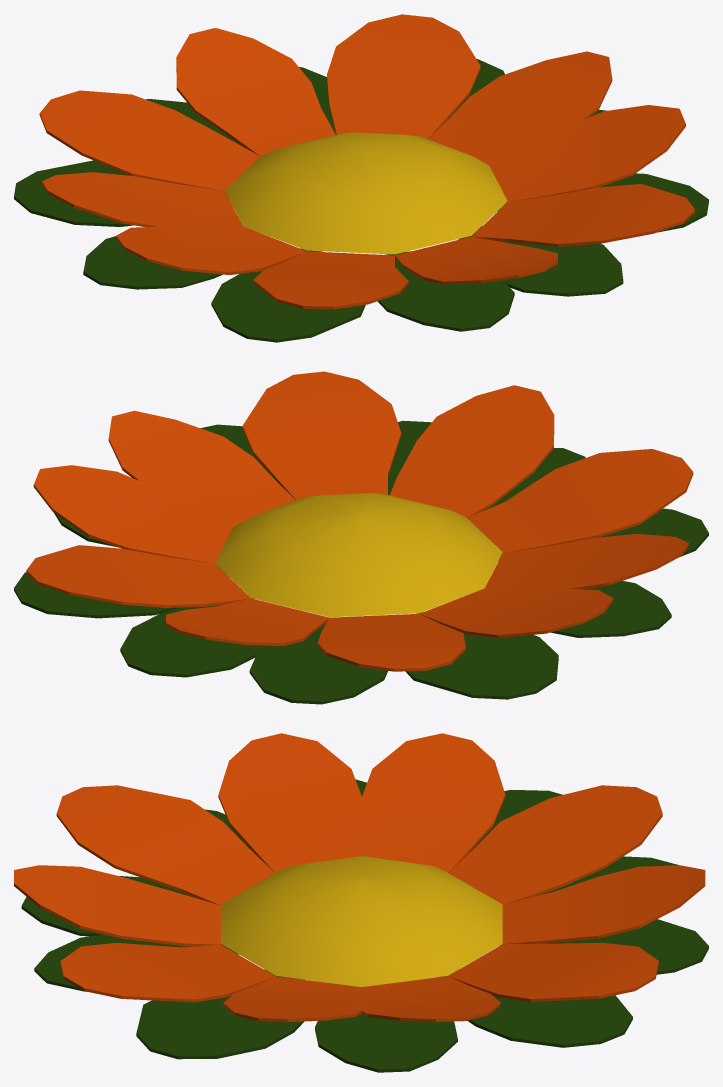
File: flower2_short.FBX
The picture shows the model from 3 angles, top to bottom: view 1: azimuth 30°, elevation 25°; view 2: azimuth 150°, elevation 25°; view 3: azimuth 270°, elevation 25°; orthographic projection. The views are drawn at different scales.
Parts seen in each view (by area): view 1: flowerOrange; view 2: flowerOrange; view 3: flowerOrange.
Boxes of the visible parts, box(x1,y1,x2,y2) form: flowerOrange: box(14, 14, 708, 342); flowerOrange: box(14, 371, 708, 704); flowerOrange: box(14, 733, 708, 1072).
Bounding box in the file's own units: 23.33 × 1.95 × 23.45.
